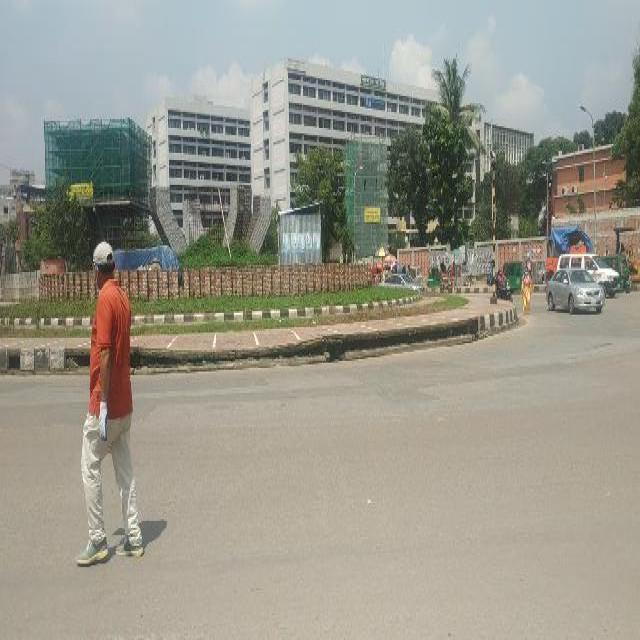bike: (496, 280, 514, 303)
vehicle: (546, 269, 607, 317), (592, 255, 621, 298), (379, 274, 426, 290), (440, 262, 461, 296), (621, 253, 632, 294), (510, 261, 523, 293), (456, 263, 469, 288), (428, 267, 439, 286)
